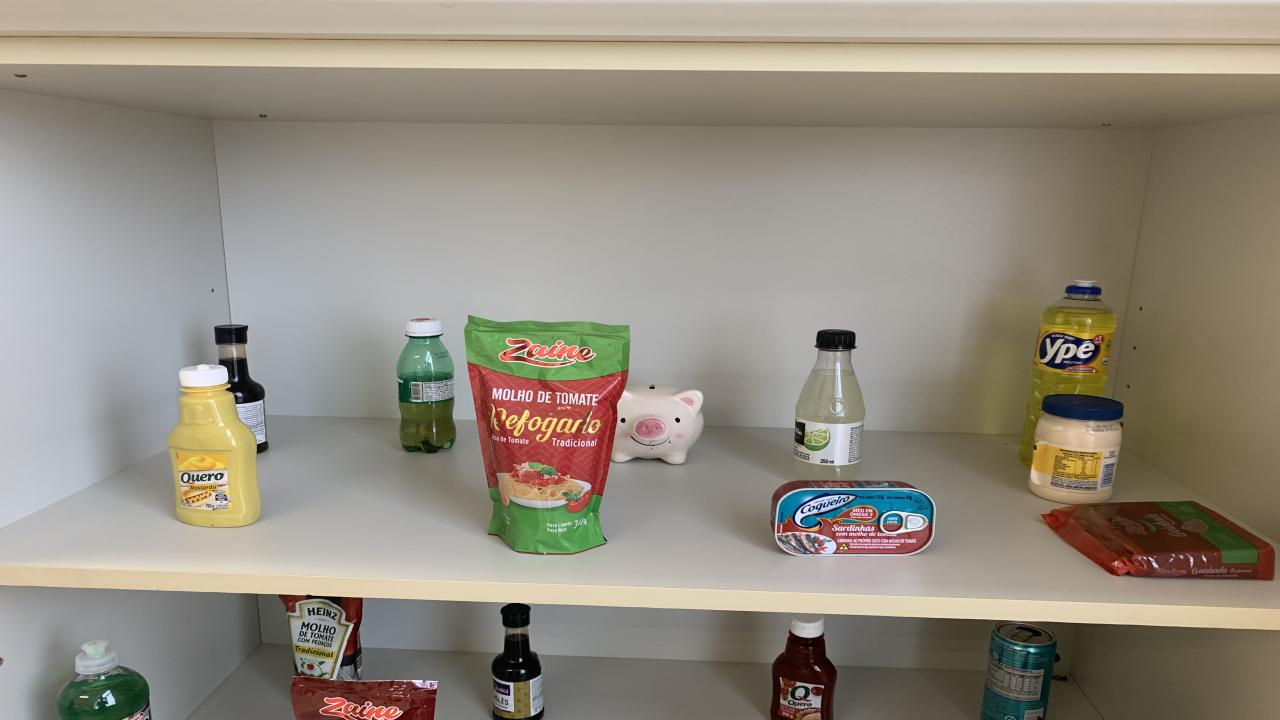Detergent-Cleanup_Items: (1020, 281, 1118, 465), (58, 639, 150, 720)
English_Sauce-Pantry_Items: (215, 324, 268, 452), (492, 604, 545, 720)
Guarana-Drinks: (398, 319, 455, 454)
Guava-Snacks: (1042, 501, 1275, 579)
Ketchup-Pantry_Items: (770, 613, 838, 720)
Mayonnaise-Pantry_Items: (1030, 394, 1125, 504)
Mustard-Pantry_Items: (168, 364, 260, 527)
Pig_Safe-Miscellaneous: (610, 384, 702, 465)
Soda-Drinks: (795, 330, 865, 480)
Tea-Drinks: (980, 622, 1058, 720)
Tomato_Sauce-Pantry_Items: (465, 317, 630, 553), (280, 594, 362, 681), (290, 675, 438, 720)
Tuna_Can-Pantry_Items: (770, 480, 938, 555)
